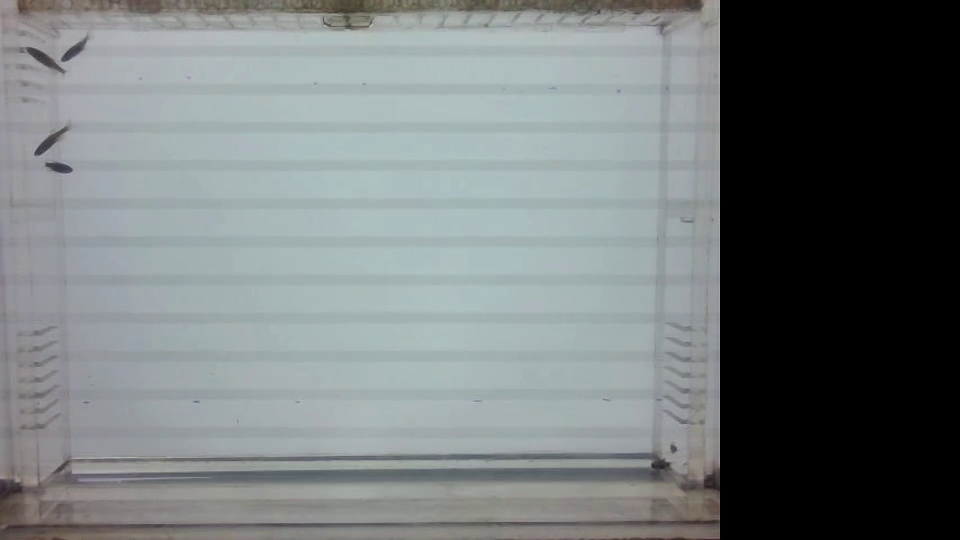fish: (17, 44, 64, 88), (28, 124, 80, 160), (58, 30, 92, 65), (37, 153, 76, 180), (644, 456, 668, 474), (649, 454, 670, 469)
